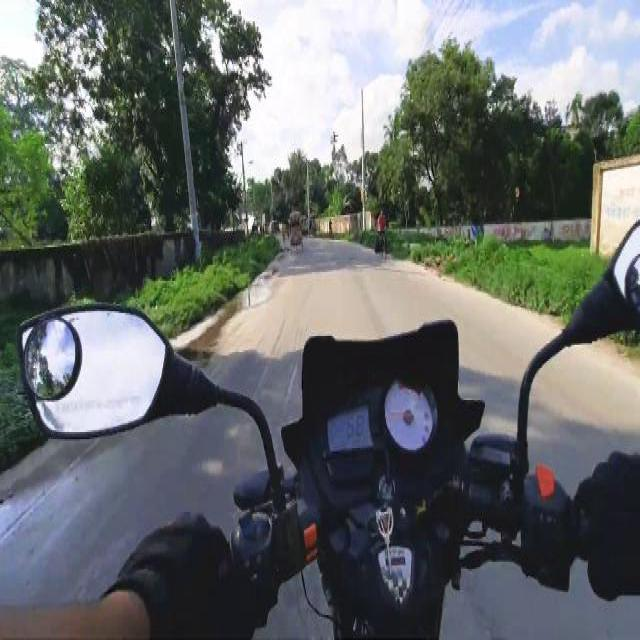10: (20, 212, 632, 638)
13: (288, 208, 302, 251)
Motorcycle: (374, 210, 388, 263)
